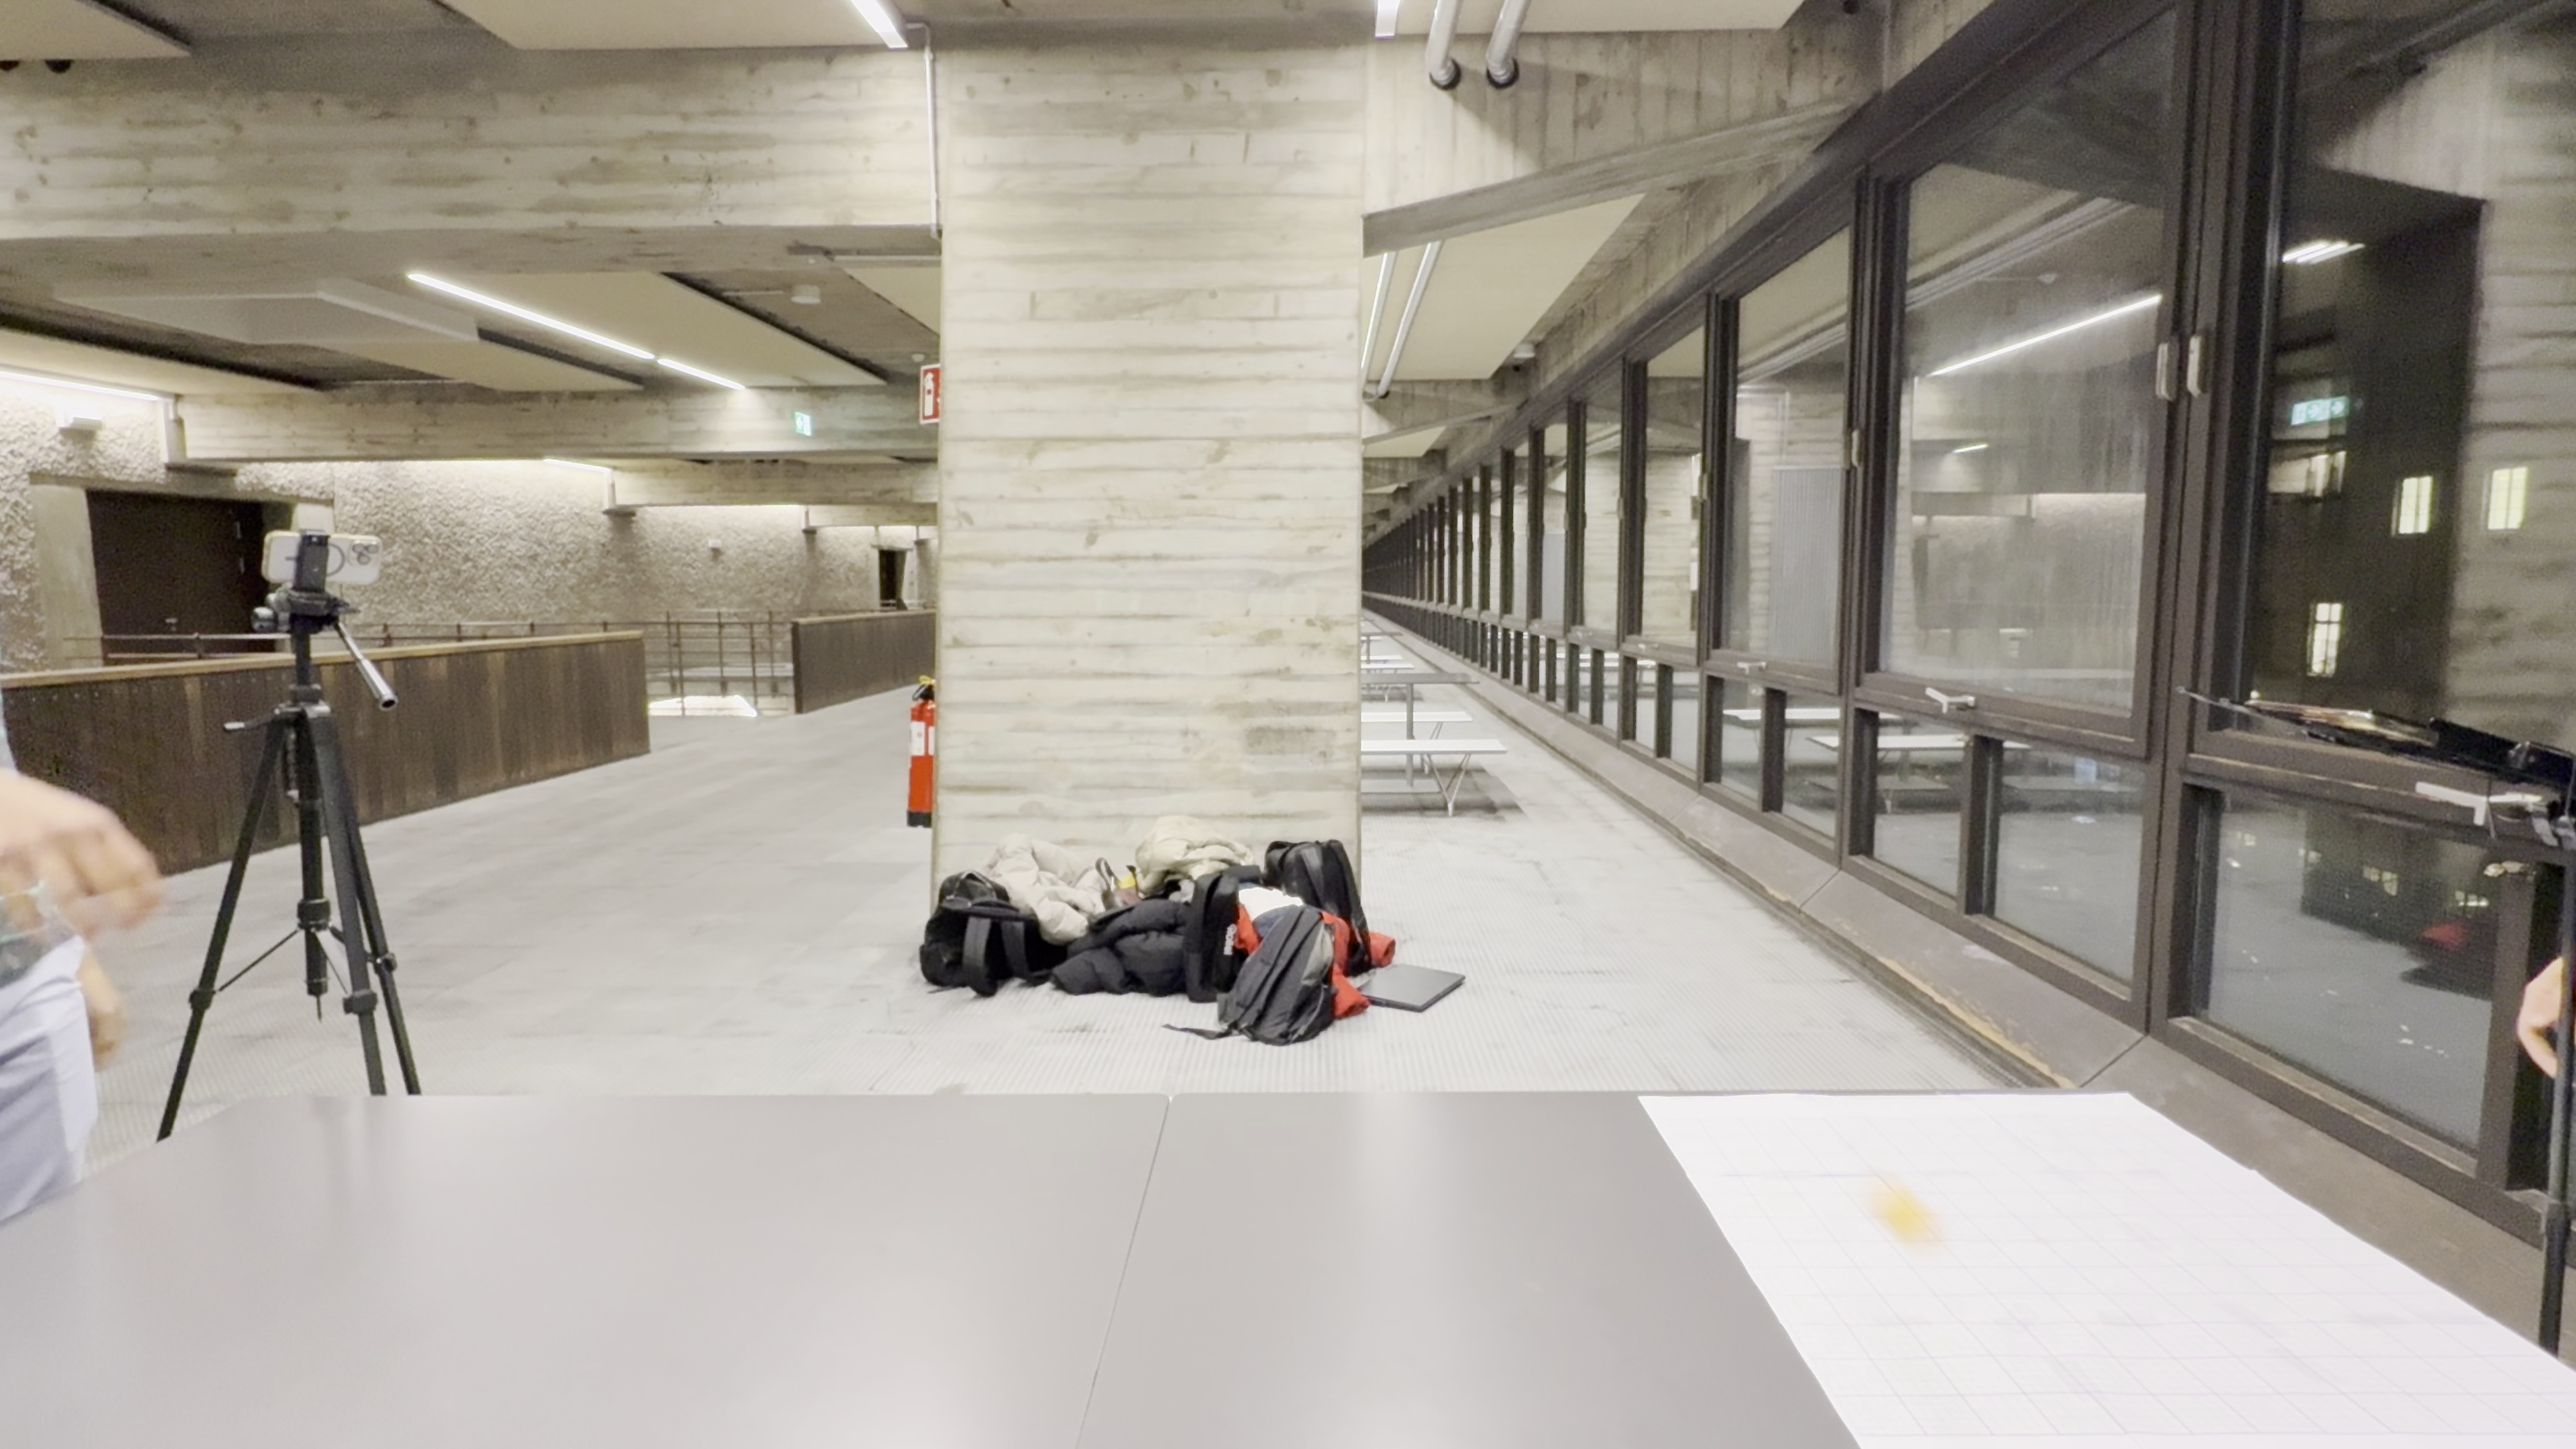ping-pong ball: (1865, 1182, 1934, 1242)
